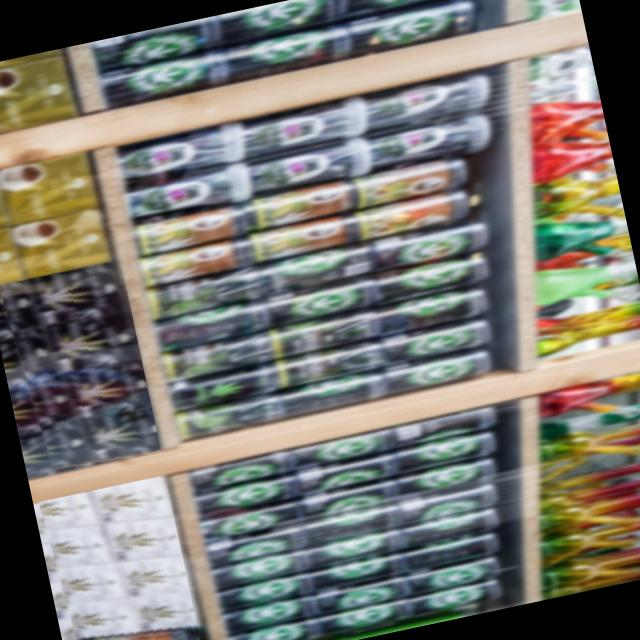Hazard: (0, 259, 160, 478), (36, 474, 205, 640)
